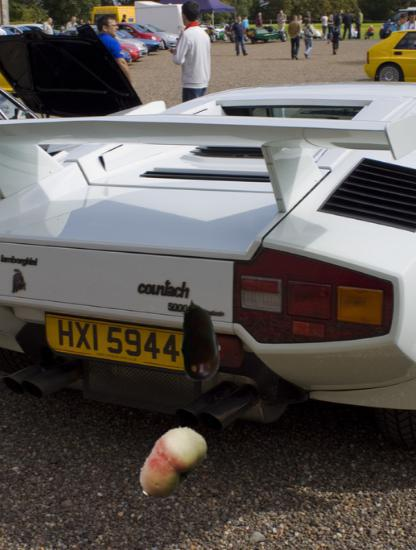Eggplant: (157, 298, 242, 383)
Peach: (131, 422, 214, 505)
